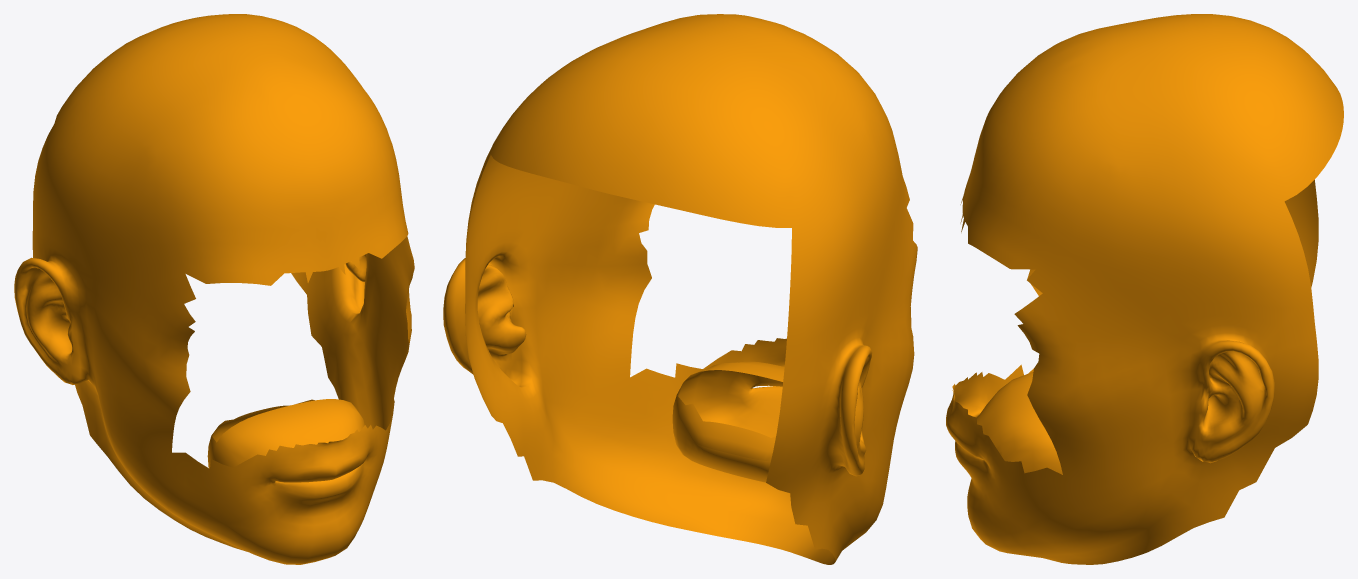
File: normal.glb
The picture shows the model from 3 angles, left to right: view 1: azimuth 30°, elevation 25°; view 2: azimuth 150°, elevation 25°; view 3: azimuth 270°, elevation 25°; orthographic projection. The views are drawn at different scales.
Parts seen in each view (by area): view 1: head; view 2: head; view 3: head.
Boxes of the visible parts, x1=… form: head: x1=14, y1=14, x2=414, y2=564; head: x1=443, y1=14, x2=917, y2=564; head: x1=946, y1=14, x2=1343, y2=564.
Size of the model in its own units: 1.93 by 2.51 by 1.76.
